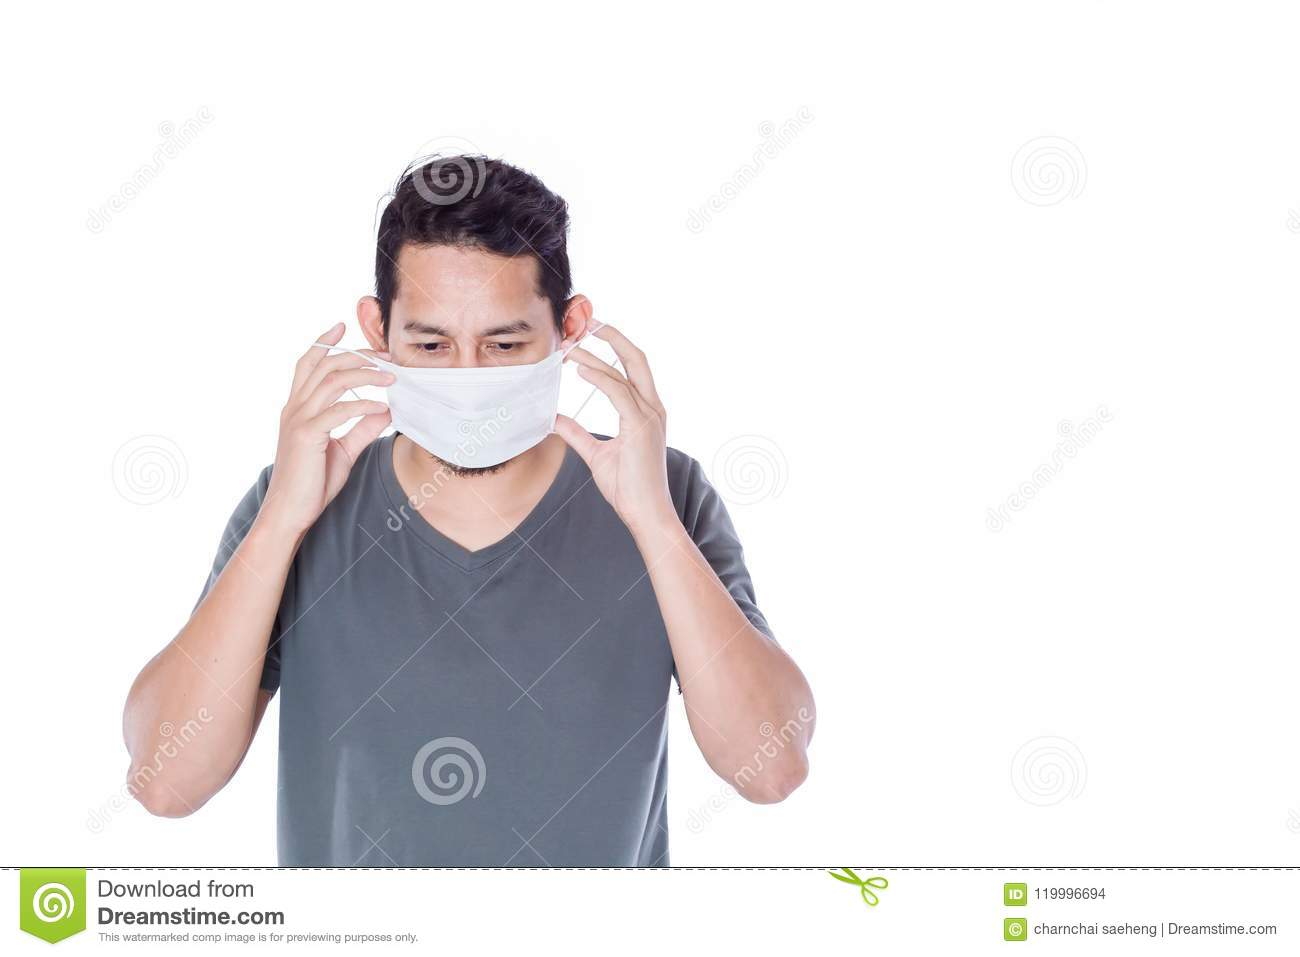mask: (380, 356, 564, 472)
